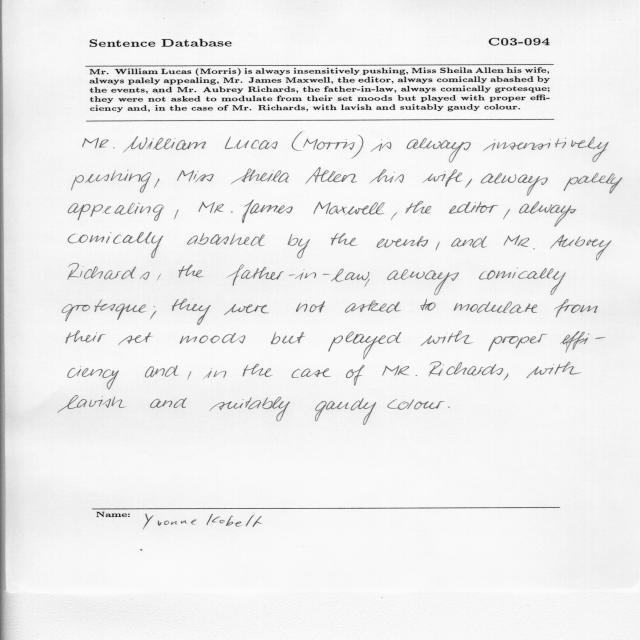word: (483, 137, 609, 162), (227, 264, 370, 286), (68, 232, 163, 258), (479, 267, 566, 295), (328, 332, 402, 360), (210, 397, 290, 422), (387, 269, 459, 295), (62, 300, 146, 322), (72, 170, 152, 193), (68, 203, 164, 221), (315, 398, 376, 425), (550, 235, 612, 261), (407, 138, 471, 163), (481, 173, 548, 196), (519, 201, 577, 227), (303, 135, 363, 159), (123, 136, 206, 153), (68, 263, 150, 280), (564, 173, 623, 194), (58, 395, 126, 413), (242, 200, 293, 223), (68, 366, 119, 389), (429, 362, 503, 376), (187, 233, 265, 246), (172, 299, 211, 325), (560, 331, 606, 353), (313, 201, 385, 215), (489, 334, 548, 351), (454, 302, 537, 314), (231, 168, 289, 184), (305, 168, 357, 185), (526, 362, 581, 378), (554, 299, 598, 318), (421, 331, 473, 346), (345, 300, 401, 313), (423, 169, 463, 187), (180, 333, 245, 344), (225, 137, 277, 150), (388, 399, 445, 410), (376, 236, 428, 248), (449, 202, 499, 214), (288, 234, 310, 258), (224, 304, 269, 315), (118, 332, 153, 346), (66, 331, 106, 343), (370, 169, 404, 183), (177, 171, 214, 183), (271, 332, 305, 345), (504, 235, 535, 249), (451, 236, 487, 248), (145, 365, 178, 378), (243, 363, 273, 377), (292, 368, 331, 378), (198, 202, 233, 213), (382, 365, 417, 376), (346, 365, 364, 386), (150, 398, 187, 408), (83, 138, 115, 149), (331, 233, 358, 246), (406, 201, 432, 214), (179, 265, 204, 278), (296, 301, 325, 312), (204, 368, 227, 379), (292, 132, 302, 151), (421, 299, 436, 311), (371, 143, 383, 152), (381, 139, 391, 149), (150, 307, 157, 320), (503, 209, 510, 220), (465, 179, 472, 188), (154, 178, 159, 188), (391, 212, 397, 220), (175, 209, 179, 219), (436, 241, 440, 251), (365, 279, 370, 287), (504, 373, 509, 380), (157, 274, 161, 281), (188, 371, 191, 380), (448, 407, 450, 408)
